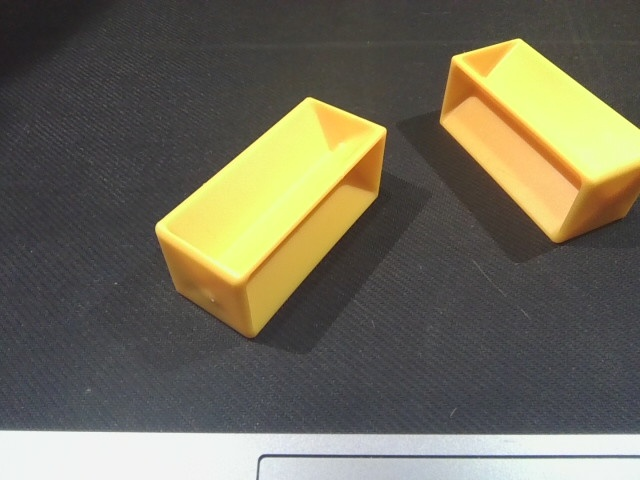YellowSample: (150, 95, 399, 341), (434, 35, 640, 243)
